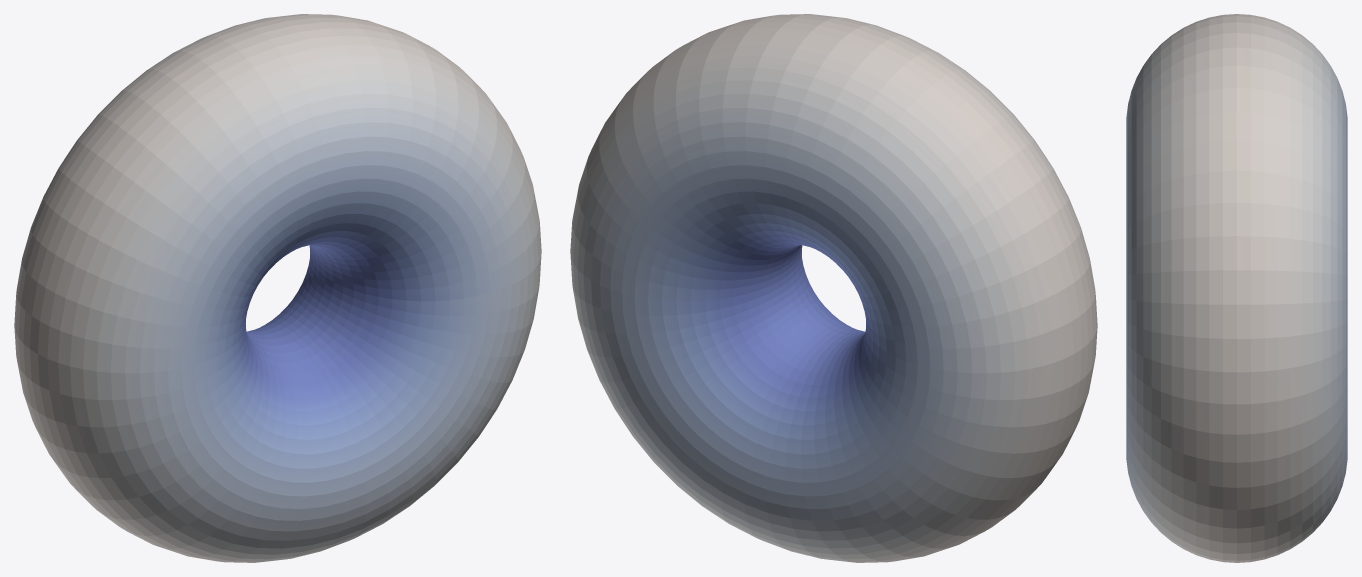
3 views of the same model, side by side, from view 1: azimuth 30°, elevation 25°; view 2: azimuth 150°, elevation 25°; view 3: azimuth 270°, elevation 25° (orthographic). The views are drawn at different scales.
Visible parts, largest first — view 1: world; view 2: world; view 3: world.
Boxes of the visible parts, x1,y1,x2,y2 form: world: (14, 14, 541, 562); world: (570, 14, 1097, 562); world: (1126, 14, 1347, 562).
Size of the model in its own units: 20.13 by 20.09 by 8.12.
